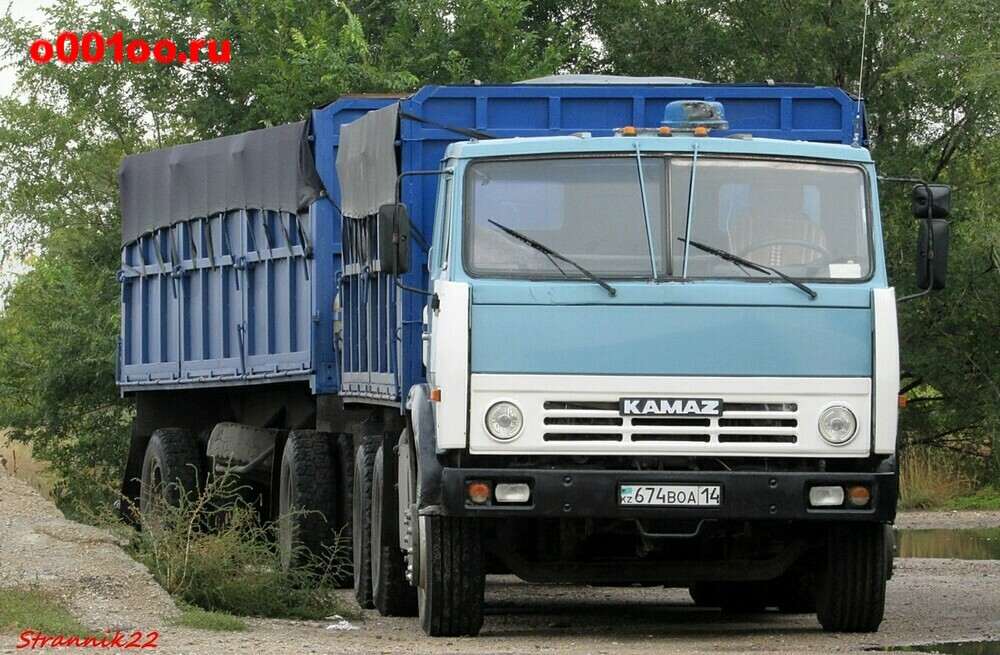license_plate: (617, 482, 725, 508)
